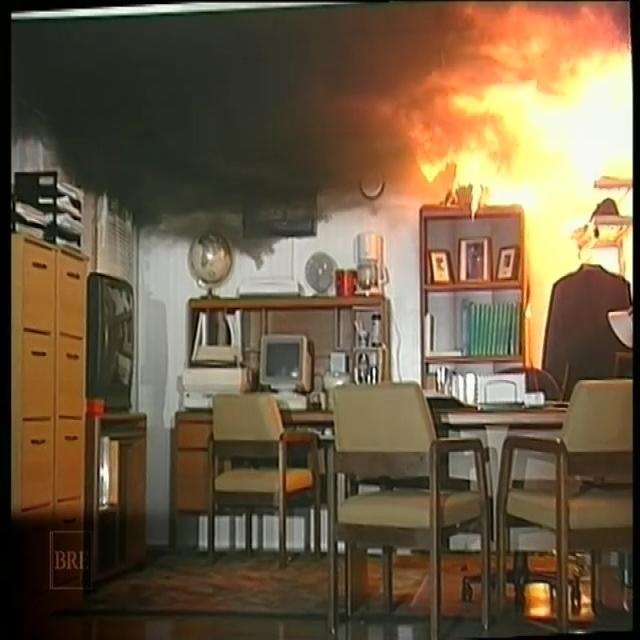Fire: (269, 20, 628, 330)
